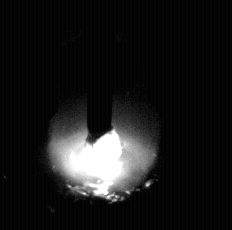arame: (88, 0, 112, 144)
poca: (50, 0, 157, 230)
